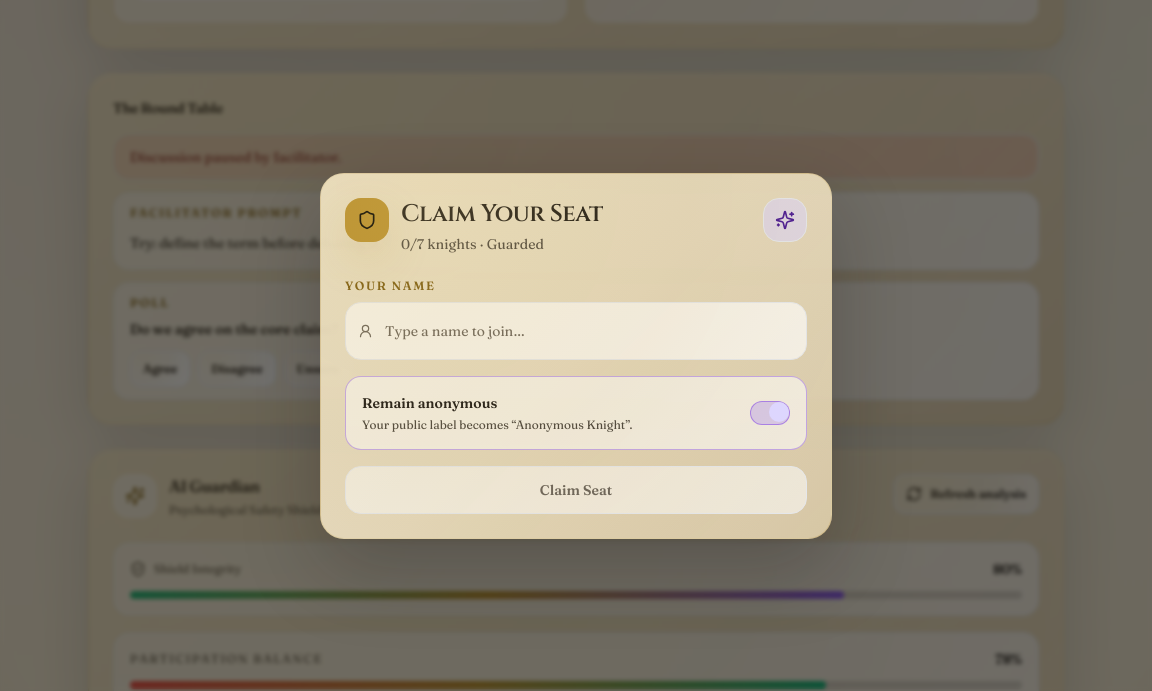
Test case: room respects facilitator pause and shows prompt card + poll
(page scrolled)
Expected: the heading "Claim Your Seat" is shown, [401, 198, 603, 230]
Type "Alice" into the field labelled "YOUR NAME" at (590, 331), box [385, 311, 794, 351]
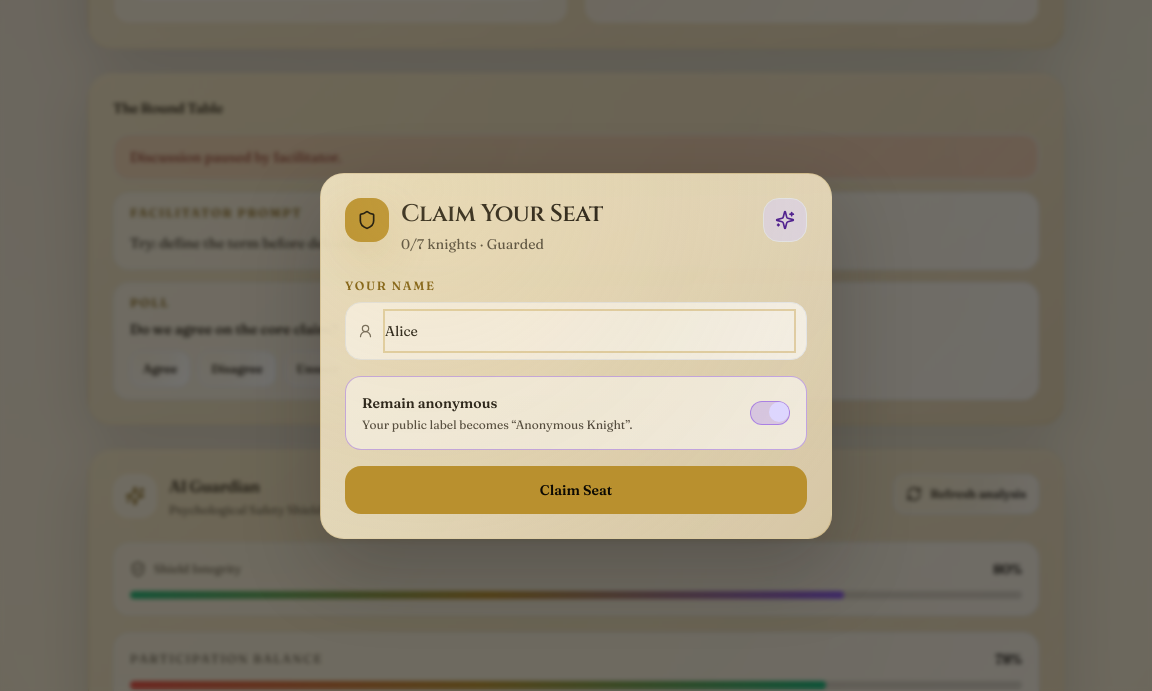
Click the button "Claim Seat" at (576, 490), box [345, 466, 807, 514]
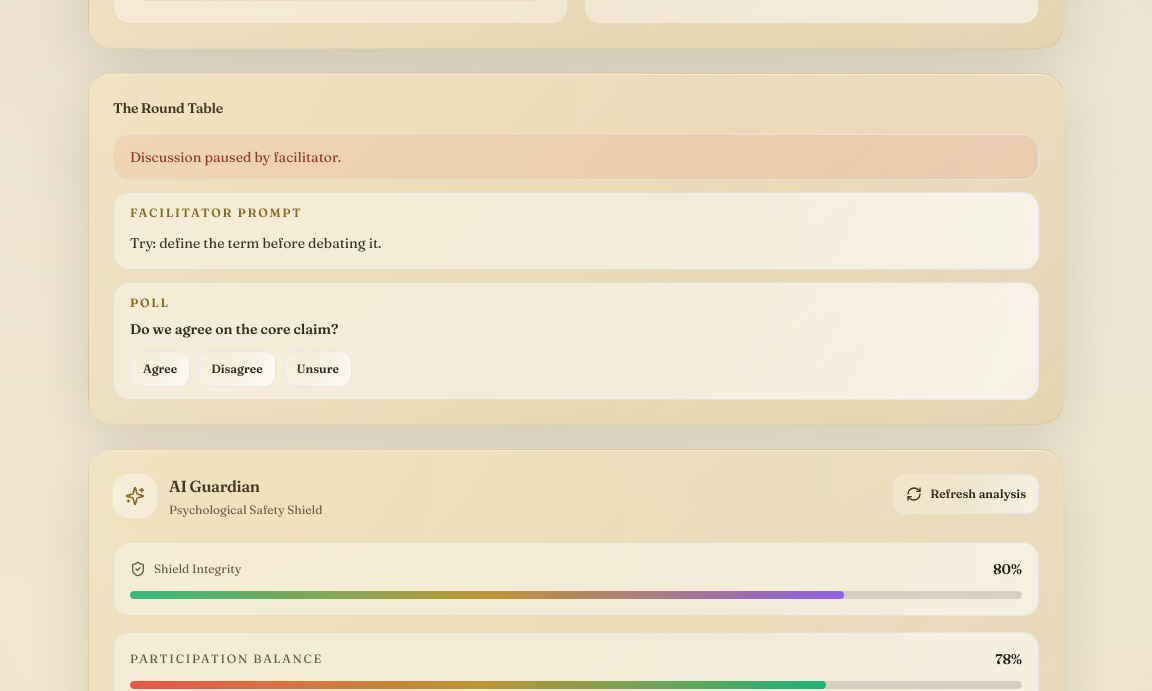
Expected: the text "Discussion paused by facilitator." is shown, [113, 134, 1039, 180]
Expected: the text "Try: define the term before debating it." is shown, [130, 234, 381, 252]
Click the button "Agree" at (160, 369), box [130, 351, 190, 387]
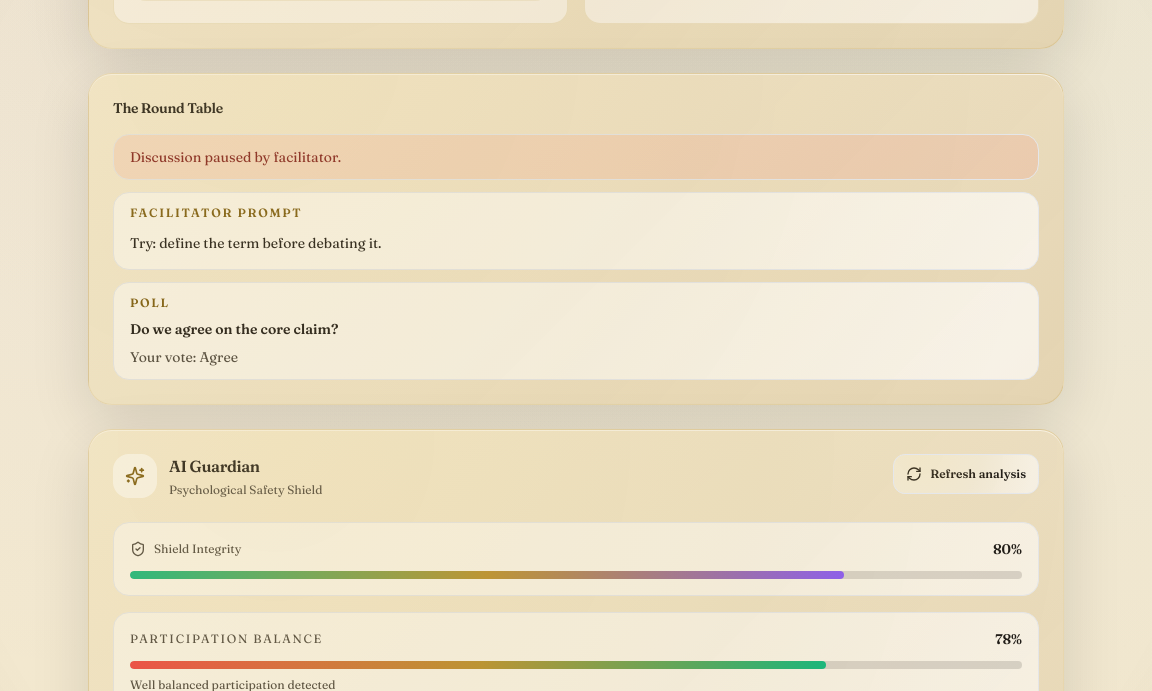
Result: the text "Your vote: Agree" is shown at [130, 348, 238, 366]
